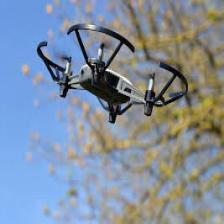drone: (37, 22, 188, 118)
